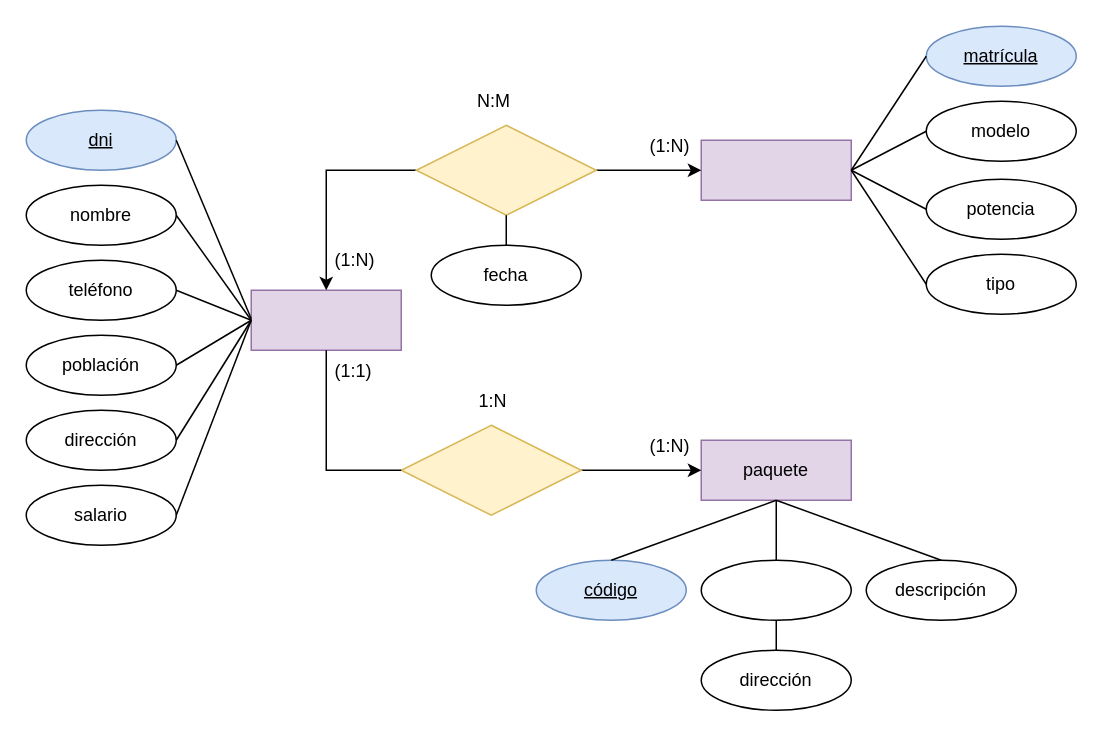
Image size: 1103x737. Some labels were removed from this diagram. The shapes that lost their labels are listed below. From the top down, each one's centre as x and y in pixels, then its label:
pixel 505 169: conduce
pixel 775 169: camión
pixel 325 319: camionero
pixel 490 469: transporta
pixel 775 589: destinatario
